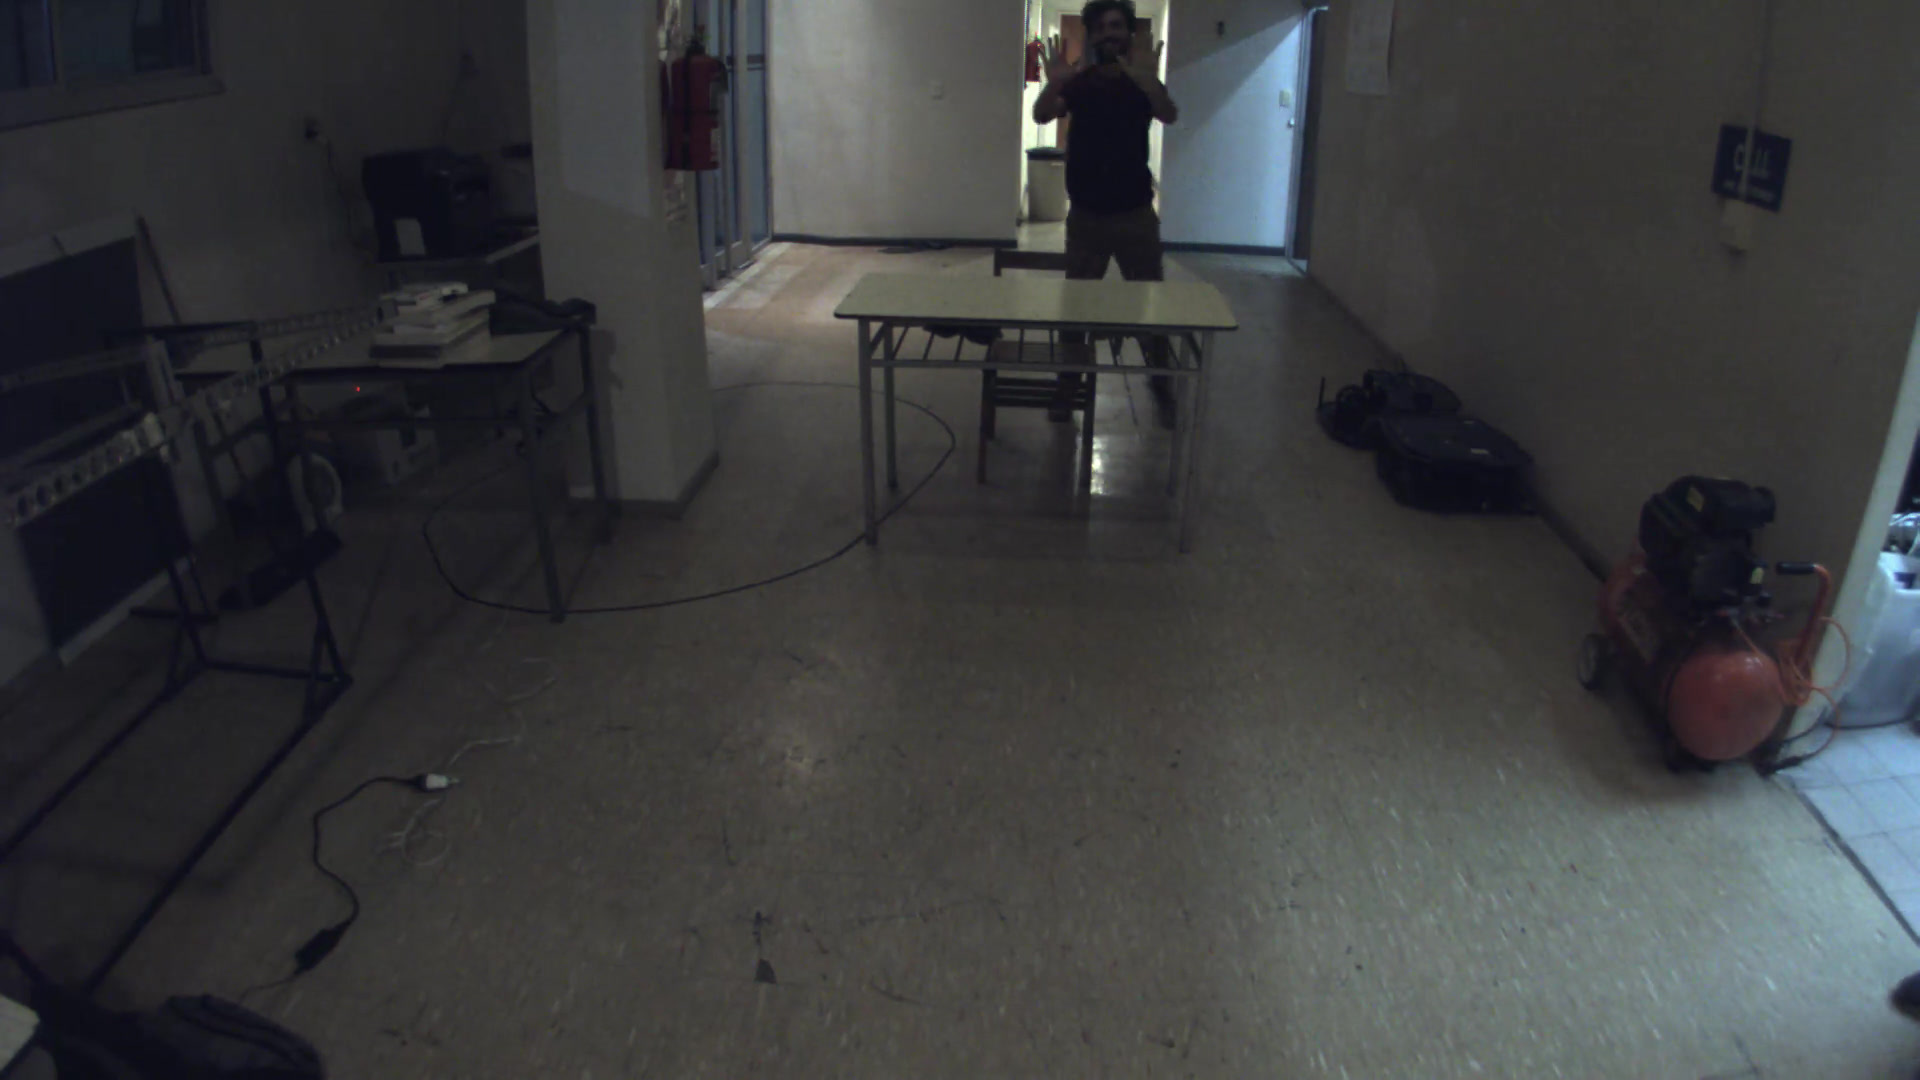hand: (1112, 29, 1172, 94), (1038, 30, 1093, 92)
